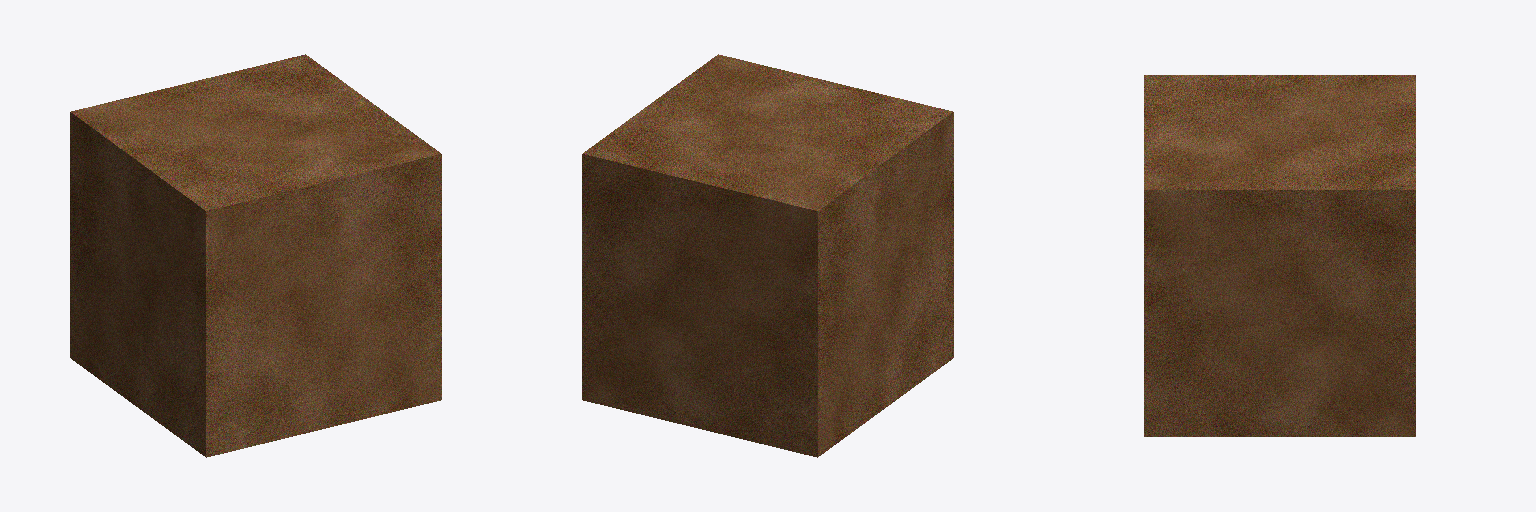
The picture shows the model from 3 angles: view 1: azimuth 30°, elevation 25°; view 2: azimuth 150°, elevation 25°; view 3: azimuth 270°, elevation 25°; orthographic projection.
Parts seen in each view (by area): view 1: Cube; view 2: Cube; view 3: Cube.
Part boxes in pixels (left/top/right/bottom): Cube: left=70, top=54, right=441, bottom=457; Cube: left=582, top=54, right=953, bottom=457; Cube: left=1144, top=75, right=1415, bottom=436.
Size of the model in its own units: 0.8838 by 0.8838 by 0.8838.
1 materials, 1 textured.